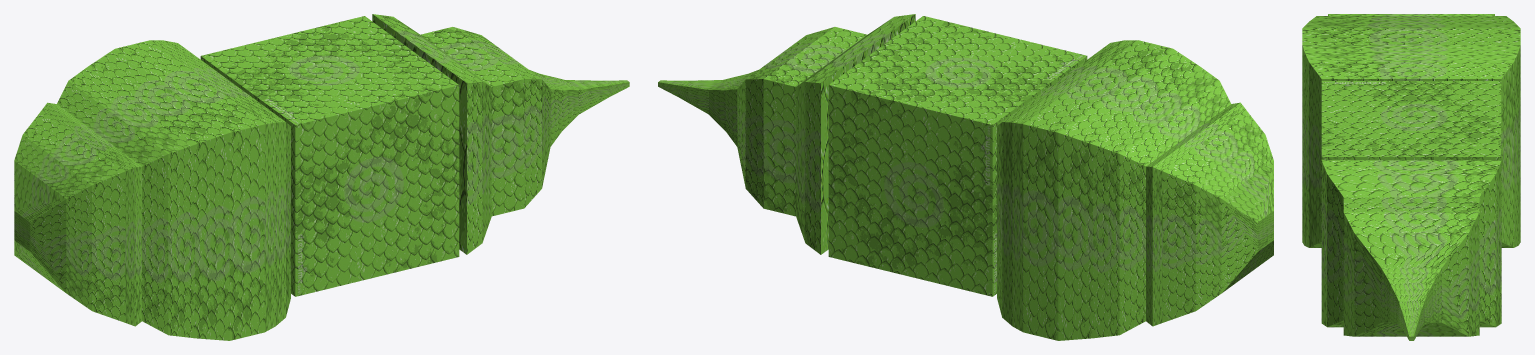
Rendered from snake-tail.obj.
3 views of the same model, side by side, from view 1: azimuth 30°, elevation 25°; view 2: azimuth 150°, elevation 25°; view 3: azimuth 270°, elevation 25° (orthographic). The views are drawn at different scales.
Visible parts, largest first — view 1: Plane.001, Cube, Plane_Plane.002; view 2: Plane.001, Cube, Plane_Plane.002; view 3: Plane_Plane.002, Plane.001, Cube.
Part boxes in pixels (x1,y1,x2,y2): Plane.001: (14,40,290,340); Cube: (200,16,459,296); Plane_Plane.002: (372,14,629,254); Plane.001: (997,40,1273,340); Cube: (828,16,1087,296); Plane_Plane.002: (658,14,915,254); Plane_Plane.002: (1321,160,1501,340); Plane.001: (1302,14,1520,247); Cube: (1321,81,1501,160).
Size of the model in its own units: 7.39 by 2.42 by 2.42.
Materials: 3 (3 with a texture image).
